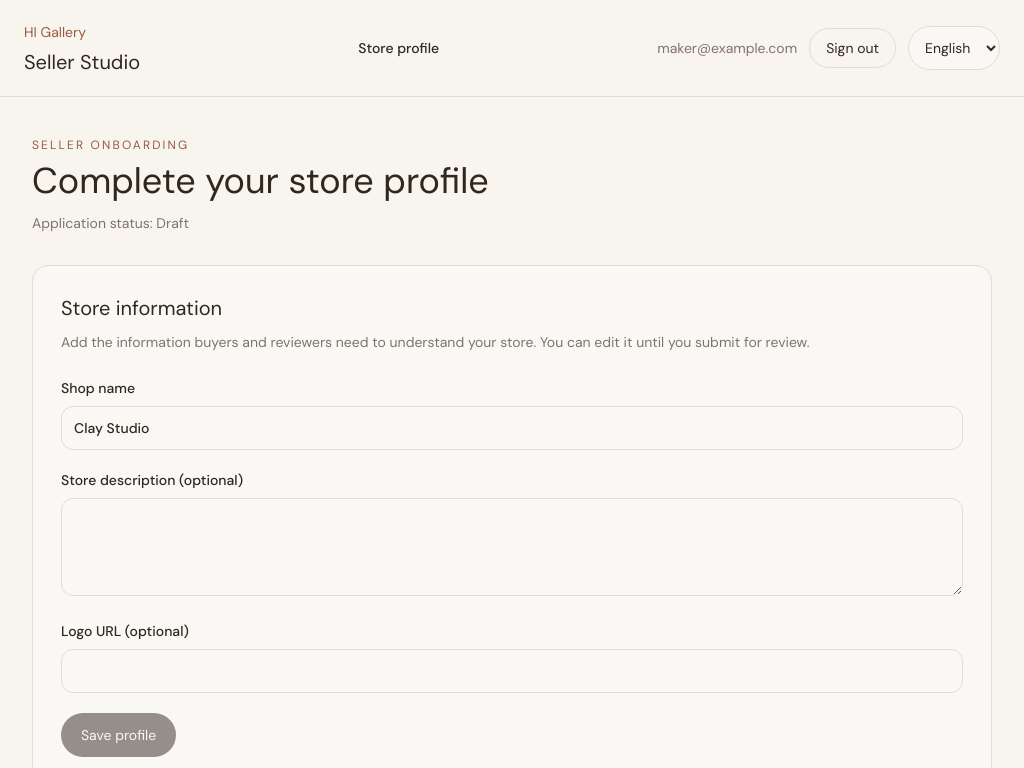
Test: seller onboarding › supports Persian RTL in the onboarding layout and translated form
Expected: the heading "Complete your store profile" is shown, [32,157,489,204]
Select "فارسی" in the dropdown named "Select language" at (954, 48), box [908,26,1000,70]
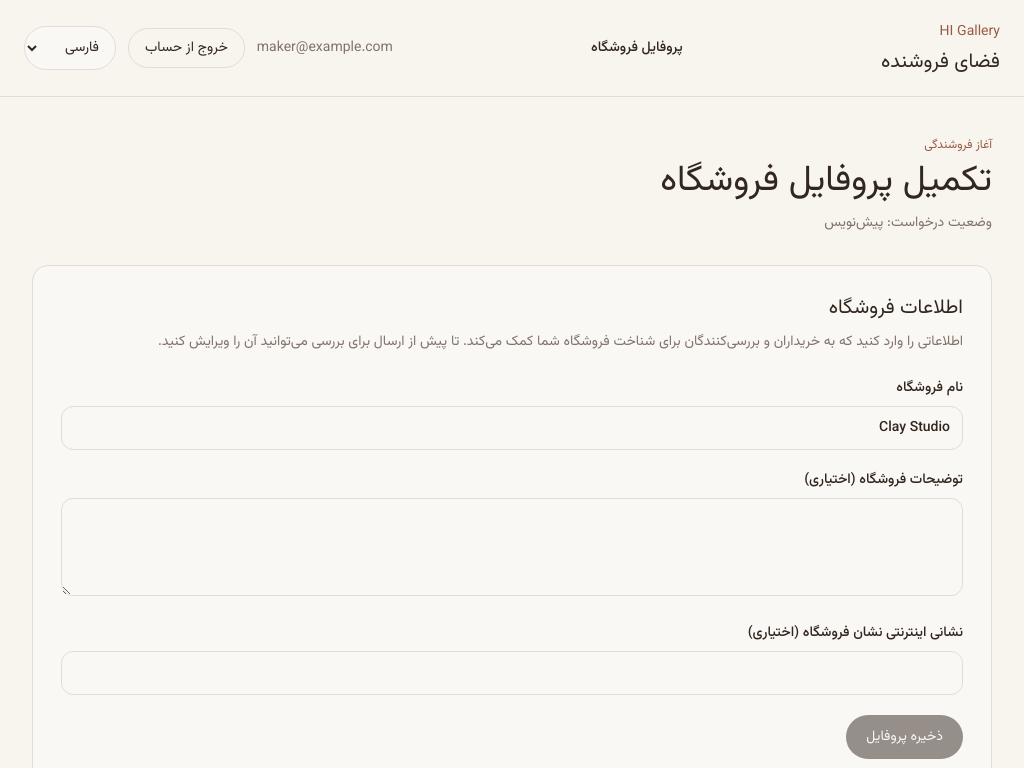
Expected: the field labelled "نام فروشگاه" is shown, [61,406,963,450]
Now the heading "تکمیل پروفایل فروشگاه" is shown, box [660,153,992,209]
